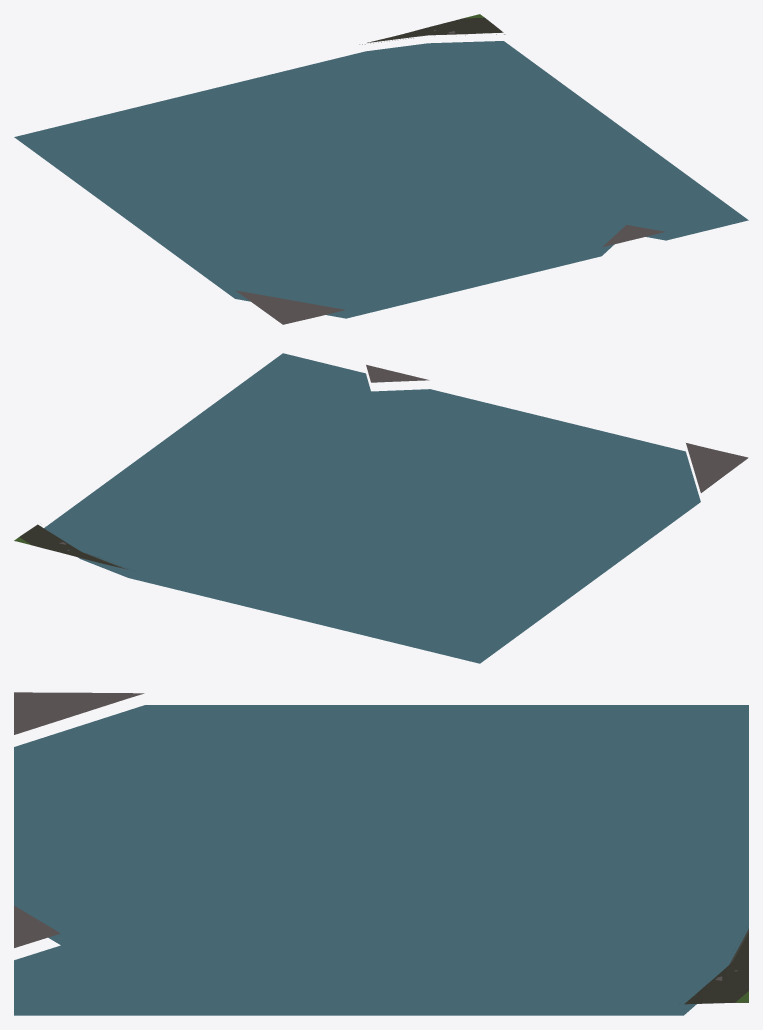
The picture shows the model from 3 angles, top to bottom: view 1: azimuth 30°, elevation 25°; view 2: azimuth 150°, elevation 25°; view 3: azimuth 270°, elevation 25°; orthographic projection. The views are drawn at different scales.
Visible parts, largest first — view 1: c_m11_p08; view 2: c_m11_p08; view 3: c_m11_p08.
Boxes of the visible parts, x1,y1,x2,y2 form: c_m11_p08: (14,14,748,324); c_m11_p08: (14,353,748,663); c_m11_p08: (14,692,748,1015).
Bounding box in the file's own units: 128 × 2.46 × 128.
